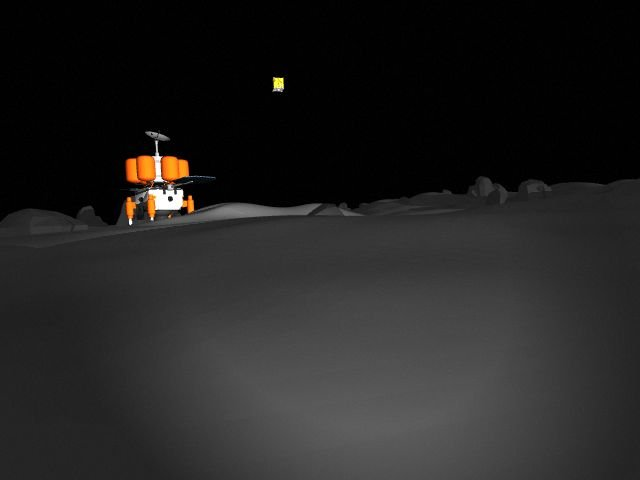homebase: (106, 127, 216, 226)
